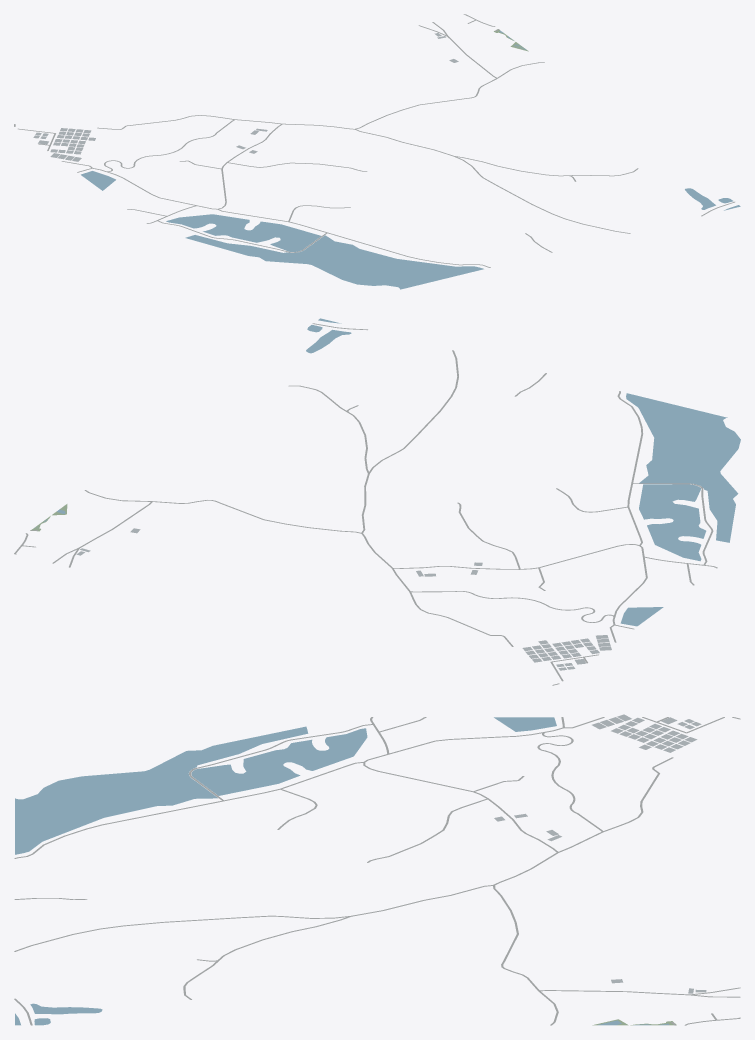
The model's file is -9_9-known-fine.glb.
The picture shows the model from 3 angles, top to bottom: view 1: azimuth 30°, elevation 25°; view 2: azimuth 150°, elevation 25°; view 3: azimuth 270°, elevation 25°; orthographic projection. The views are drawn at different scales.
Bounding box in the file's own units: 1011 × 0.15 × 998.
